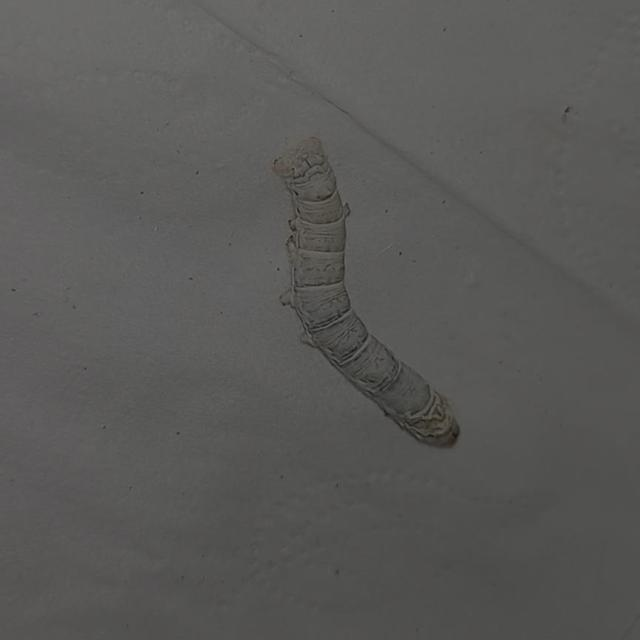Healthy: (254, 127, 473, 454)
